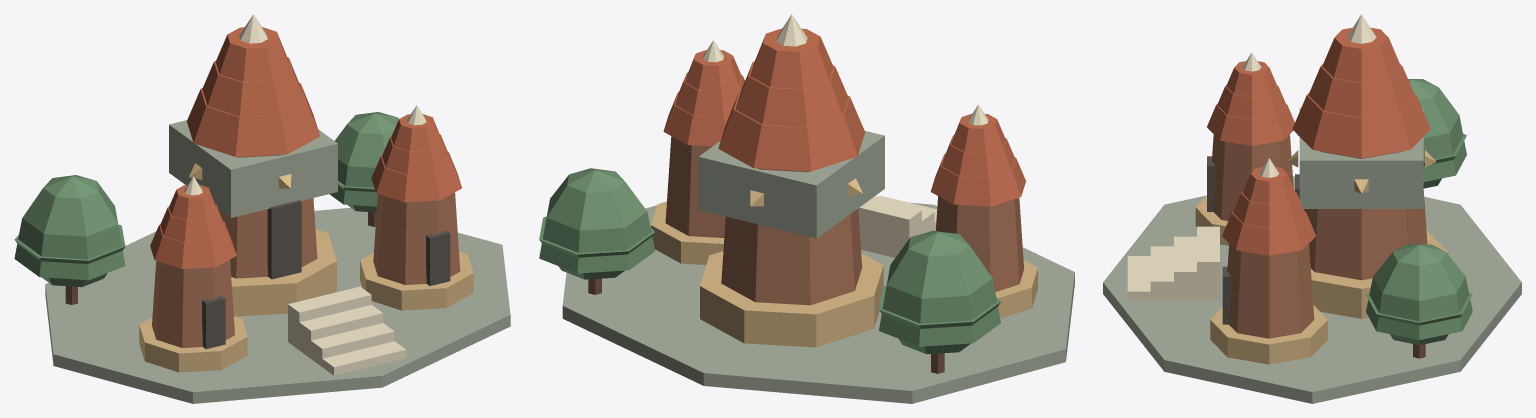
File: chenla.glb
3 views of the same model, side by side, from view 1: azimuth 30°, elevation 25°; view 2: azimuth 150°, elevation 25°; view 3: azimuth 270°, elevation 25° (orthographic). The views are drawn at different scales.
Parts seen in each view (by area): view 1: chenla_stone, chenla_terracotta, chenla_brick, chenla_foliage, chenla_sandstone, chenla_cream, chenla_deep_shadow; view 2: chenla_stone, chenla_terracotta, chenla_foliage, chenla_brick, chenla_sandstone, chenla_cream, chenla_dark_wood; view 3: chenla_stone, chenla_terracotta, chenla_brick, chenla_foliage, chenla_sandstone, chenla_cream, chenla_deep_shadow.
Part boxes in pixels (x1,y1,x2,y2): chenla_stone: (45, 120, 510, 403); chenla_terracotta: (150, 27, 461, 268); chenla_brick: (152, 154, 460, 347); chenla_foliage: (14, 112, 398, 287); chenla_sandstone: (139, 163, 473, 372); chenla_cream: (184, 14, 426, 375); chenla_deep_shadow: (202, 200, 450, 349); chenla_stone: (562, 131, 1074, 403); chenla_terracotta: (663, 28, 1025, 206); chenla_foliage: (539, 168, 1000, 354); chenla_brick: (665, 136, 1023, 305); chenla_sandstone: (651, 178, 1037, 347); chenla_cream: (702, 14, 988, 257); chenla_dark_wood: (588, 278, 944, 373); chenla_stone: (1103, 108, 1521, 403); chenla_terracotta: (1207, 27, 1430, 255); chenla_brick: (1212, 134, 1427, 338); chenla_foliage: (1366, 79, 1472, 345); chenla_sandstone: (1195, 150, 1448, 364); chenla_cream: (1127, 14, 1376, 299); chenla_deep_shadow: (1207, 156, 1299, 324).
Bounding box in the file's own units: 2.1 × 1.25 × 1.69.
